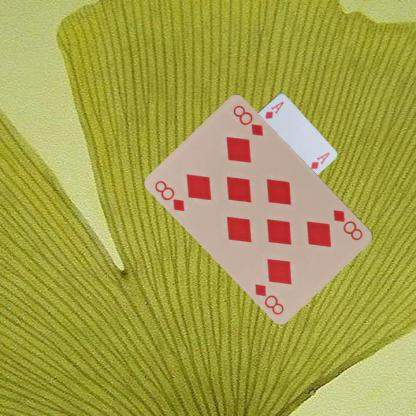8d: (331, 207, 365, 243), (152, 178, 186, 213)
Ad: (262, 99, 285, 120)
